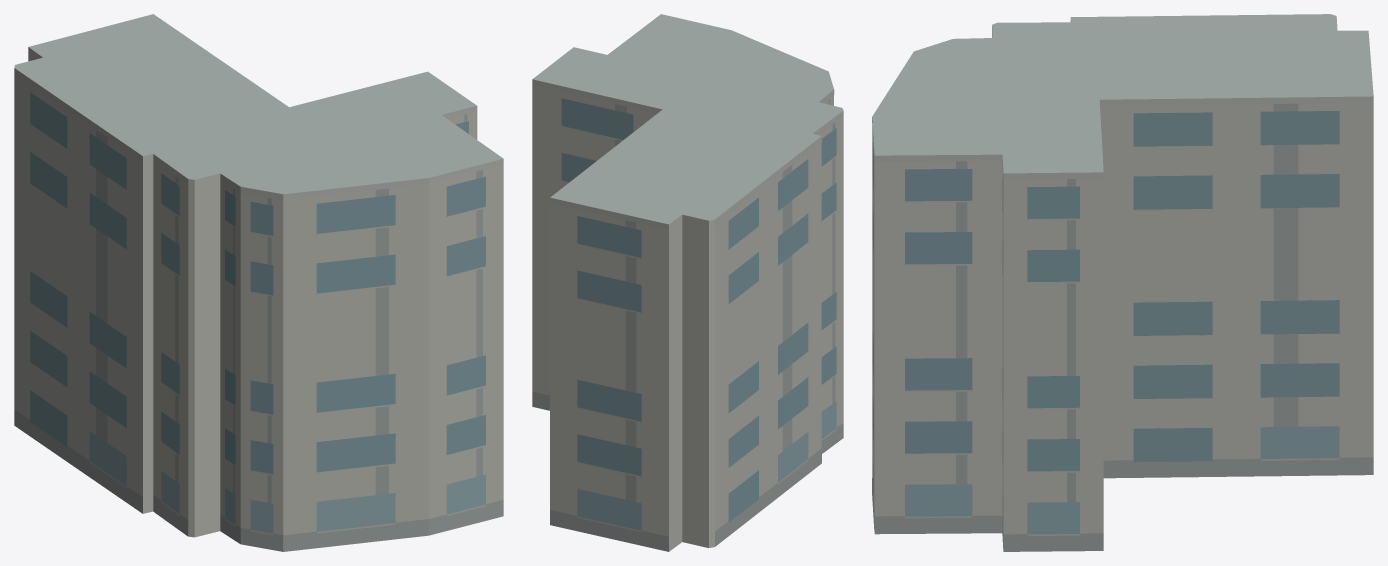
File: survey-upis-32808327.glb
3 views of the same model, side by side, from view 1: azimuth 30°, elevation 25°; view 2: azimuth 150°, elevation 25°; view 3: azimuth 270°, elevation 25° (orthographic). The views are drawn at different scales.
Visible parts, largest first — view 1: survey-upis-32808327.tmp; view 2: survey-upis-32808327.tmp; view 3: survey-upis-32808327.tmp.
Part boxes in pixels (x1,y1,x2,y2): survey-upis-32808327.tmp: [14, 14, 503, 551]; survey-upis-32808327.tmp: [532, 14, 843, 551]; survey-upis-32808327.tmp: [872, 14, 1373, 551].
Bounding box in the file's own units: 13.19 × 14.6 × 17.54.
